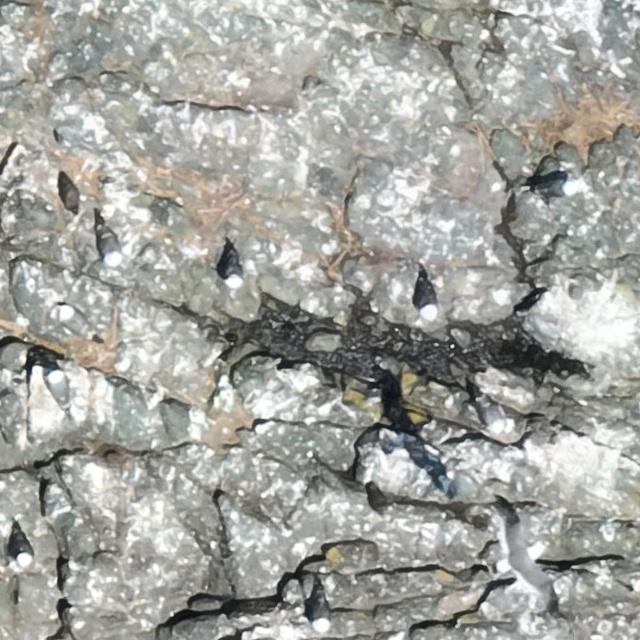F: (499, 506, 554, 608)
umineko: (58, 306, 101, 342), (474, 392, 506, 434), (94, 219, 121, 268), (8, 526, 32, 567), (536, 179, 580, 199), (48, 370, 66, 402), (418, 286, 435, 319), (311, 599, 328, 631), (226, 256, 242, 286)
